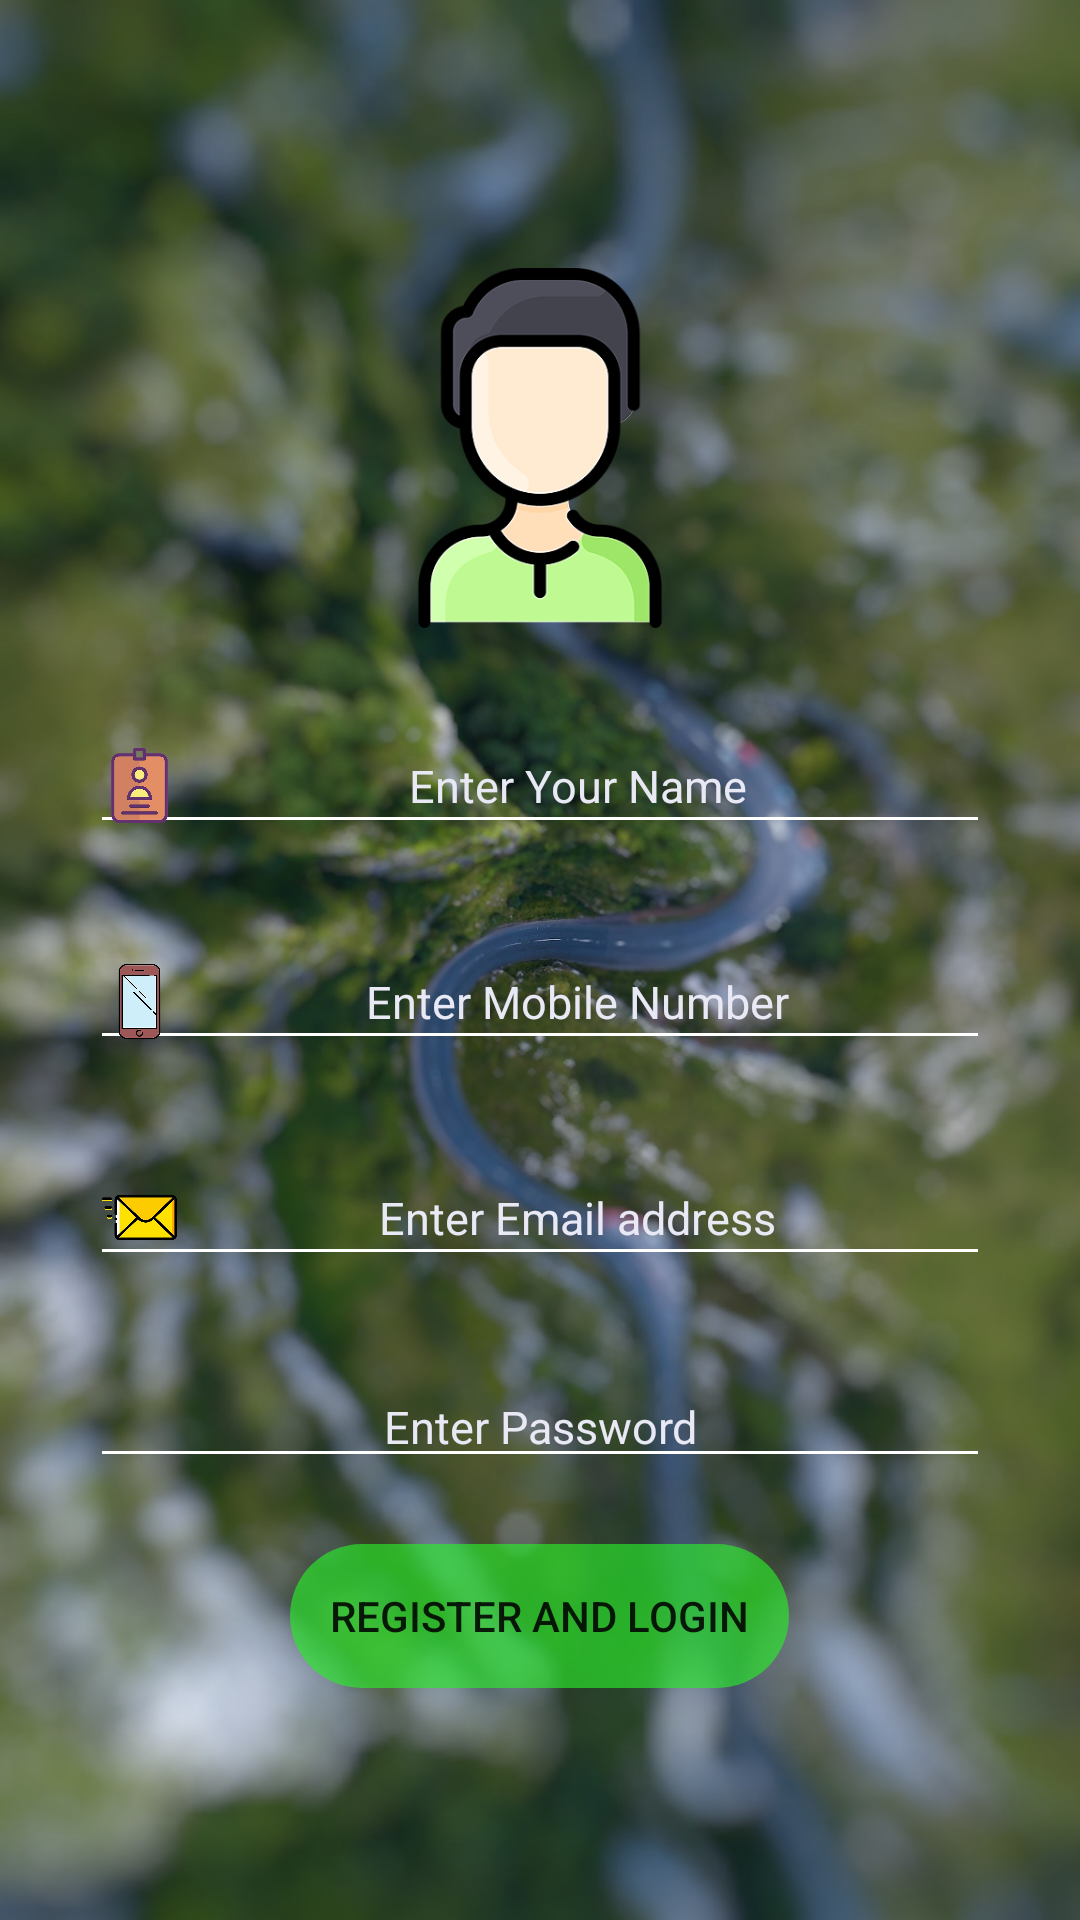

Screen size 1080px×1920px. Icon name, then its center in pixels as (x,y):
people: (540,448)
